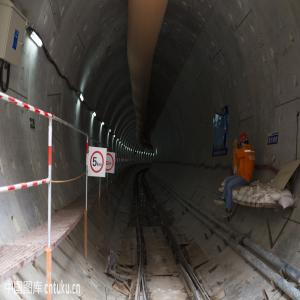red: (239, 133, 250, 149)
